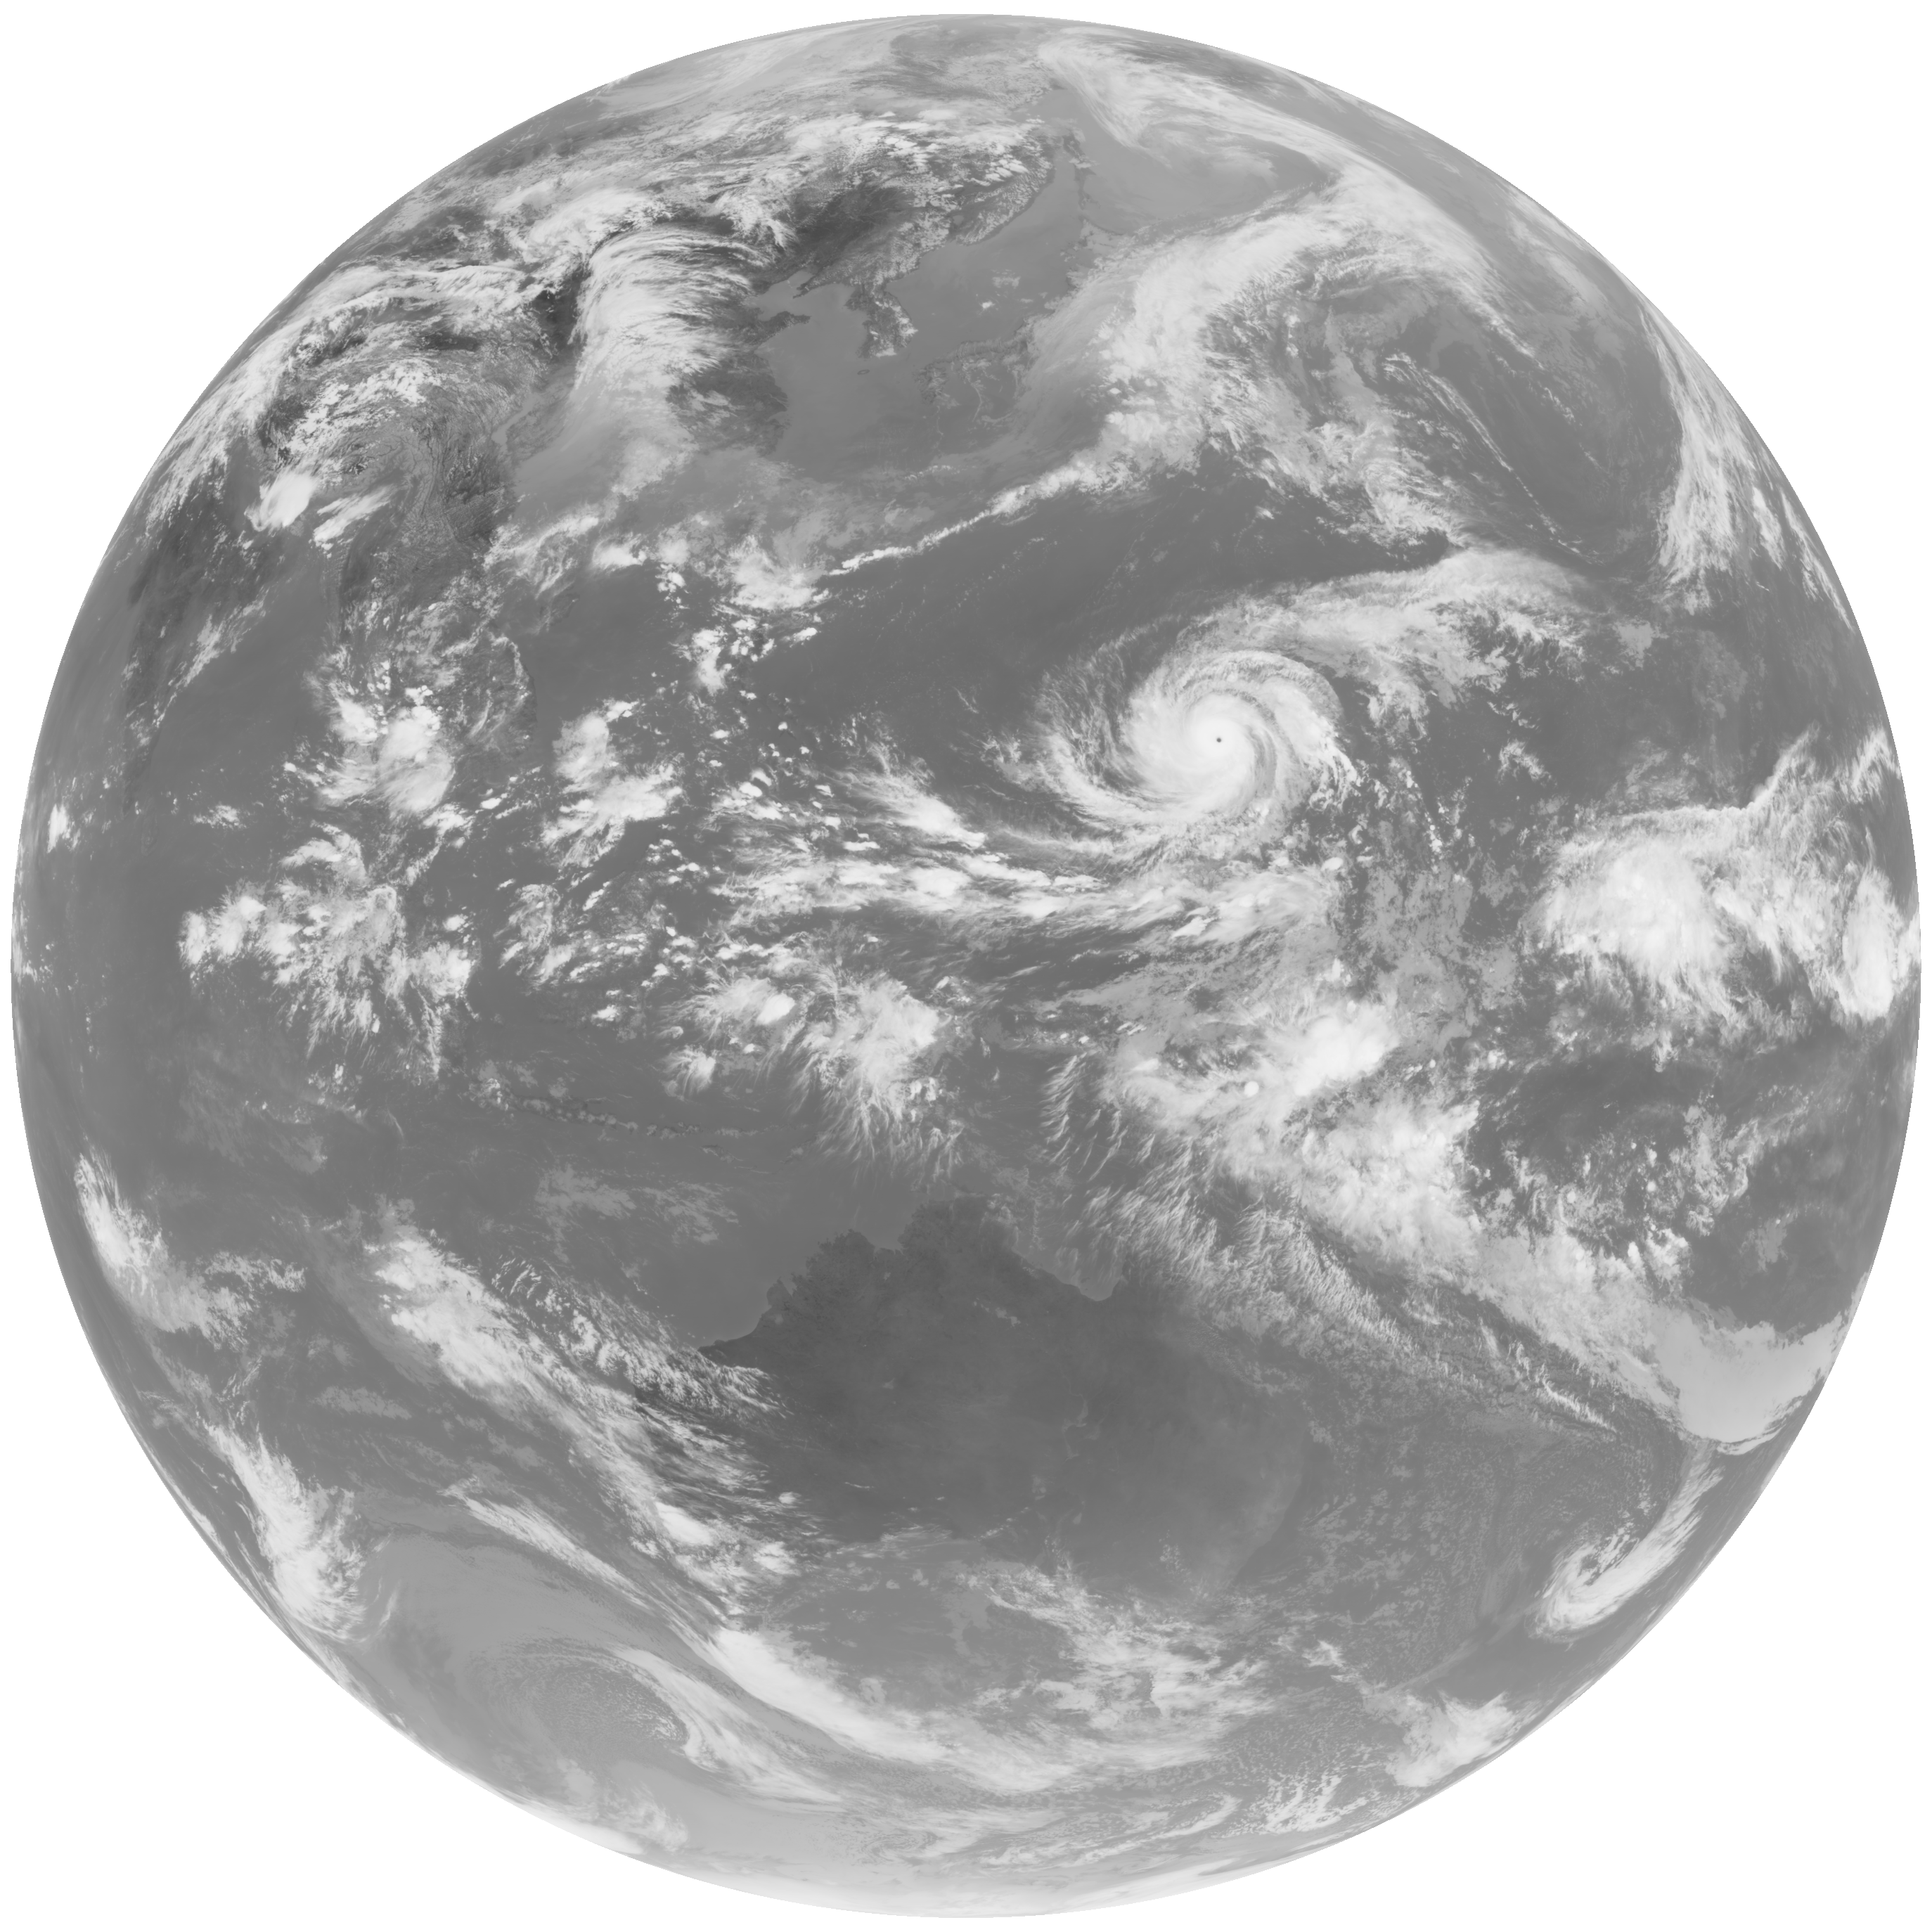typhoon: (879, 540, 1546, 902)
